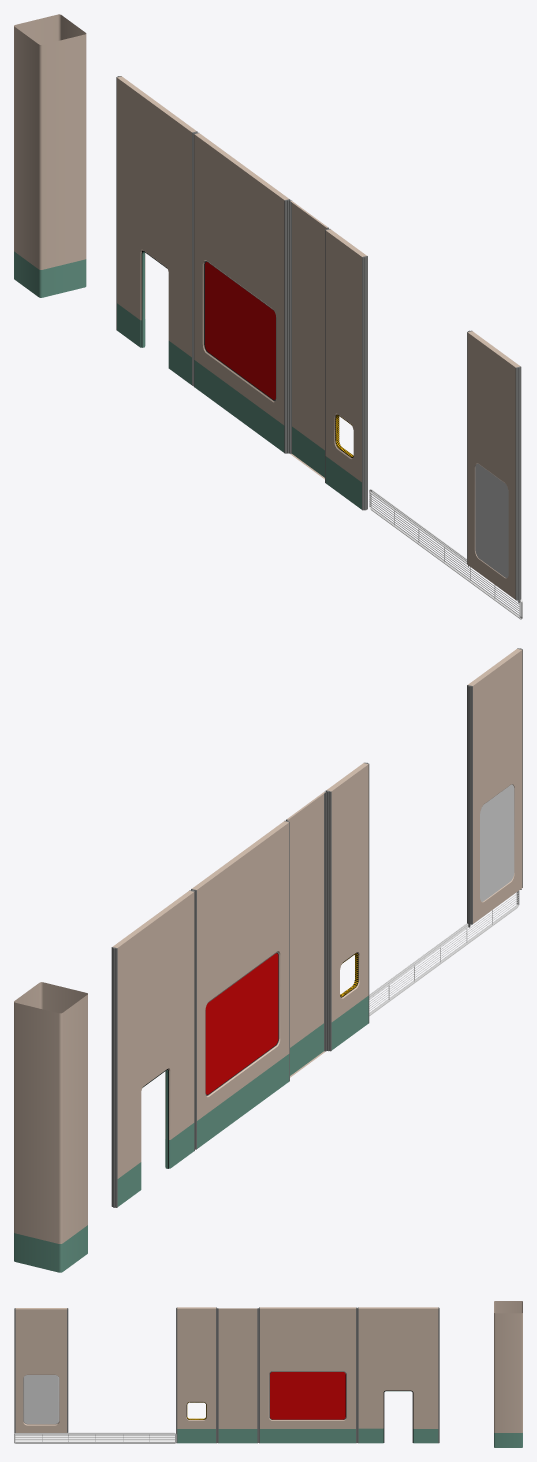
The model's file is WallSet.fbx.
3 views of the same model, one above another, from view 1: azimuth 30°, elevation 25°; view 2: azimuth 150°, elevation 25°; view 3: azimuth 270°, elevation 25° (orthographic). The views are drawn at different scales.
Parts seen in each view (by area): view 1: Plane.001, Cube.004, Plane.003, Plane.009, Plane.006, Plane.005, Window_Wall_Vent_001_Chamber_Struc_; view 2: Plane.001, Cube.004, Plane.003, Plane.009, Plane.006, Plane.005, Window_Wall_Vent_001_Chamber_Struc_; view 3: Plane.001, Plane.003, Plane.009, Plane.005, Plane.006, Cube.004, Window_Wall_Vent_001_Chamber_Struc_.
Boxes of the visible parts, x1,y1,x2,y2 form: Plane.001: (193, 132, 290, 453); Cube.004: (14, 14, 86, 297); Plane.003: (116, 76, 197, 385); Plane.009: (467, 330, 521, 603); Plane.006: (325, 228, 367, 510); Plane.005: (289, 200, 328, 479); Window_Wall_Vent_001_Chamber_Struc_: (369, 489, 522, 619); Plane.001: (191, 820, 289, 1149); Cube.004: (14, 982, 87, 1272); Plane.003: (111, 890, 194, 1207); Plane.009: (467, 648, 522, 927); Plane.006: (325, 762, 369, 1051); Plane.005: (286, 791, 326, 1077); Window_Wall_Vent_001_Chamber_Struc_: (369, 890, 519, 1016); Plane.001: (258, 1307, 357, 1443); Plane.003: (357, 1307, 439, 1443); Plane.009: (14, 1308, 68, 1432); Plane.005: (217, 1308, 258, 1443); Plane.006: (176, 1307, 217, 1443); Cube.004: (494, 1301, 522, 1447); Window_Wall_Vent_001_Chamber_Struc_: (14, 1432, 176, 1443).
Size of the model in its own units: 280 by 1434 by 4911.
